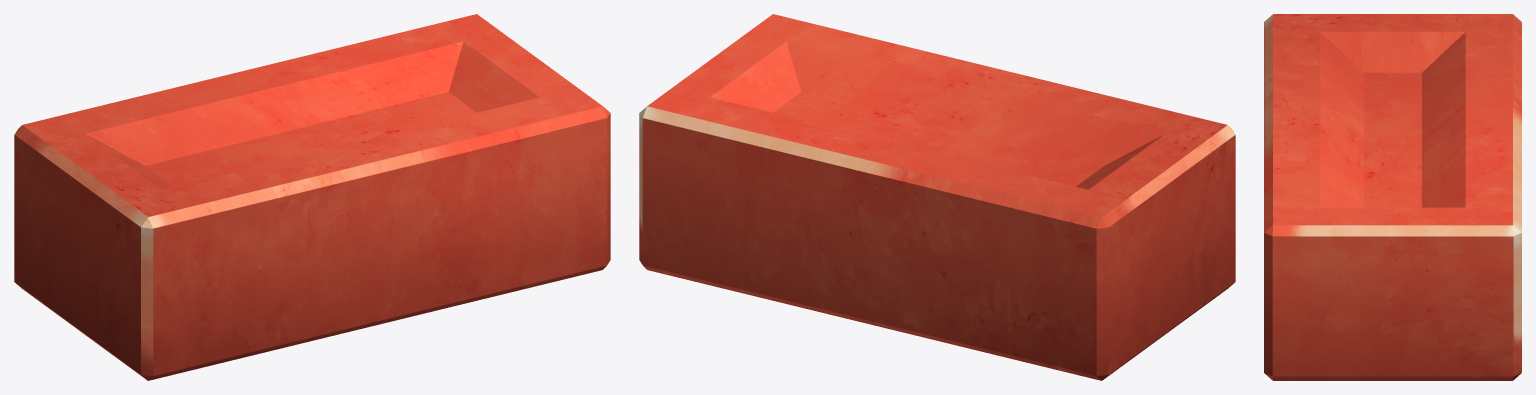
Rendered from active.Brick-01.glb.
3 renders of one model, left to right at view 1: azimuth 30°, elevation 25°; view 2: azimuth 150°, elevation 25°; view 3: azimuth 270°, elevation 25°, orthographic. The views are drawn at different scales.
Visible parts, largest first — view 1: active.Brick 01; view 2: active.Brick 01; view 3: active.Brick 01.
Part boxes in pixels (x1,y1,x2,y2): active.Brick 01: (14,14,610,380); active.Brick 01: (639,14,1235,380); active.Brick 01: (1264,14,1521,380).
Size of the model in its own units: 0.468 by 0.156 by 0.234.
Materials: 1 (1 with a texture image).
